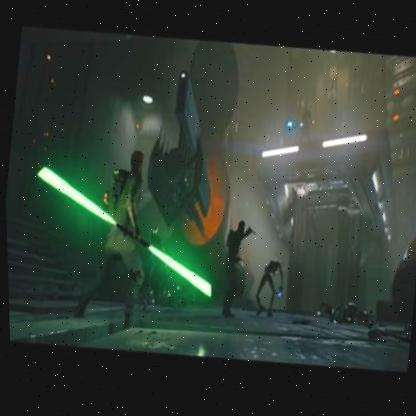lightsaber: (27, 162, 138, 262), (126, 231, 218, 301)
person: (83, 147, 163, 331), (214, 215, 265, 323)
